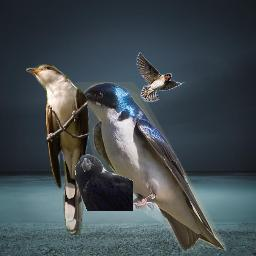Crow: (74, 154, 133, 211)
Cuckoo: (26, 64, 90, 235)
Swallow: (73, 82, 227, 253), (136, 52, 185, 102)
